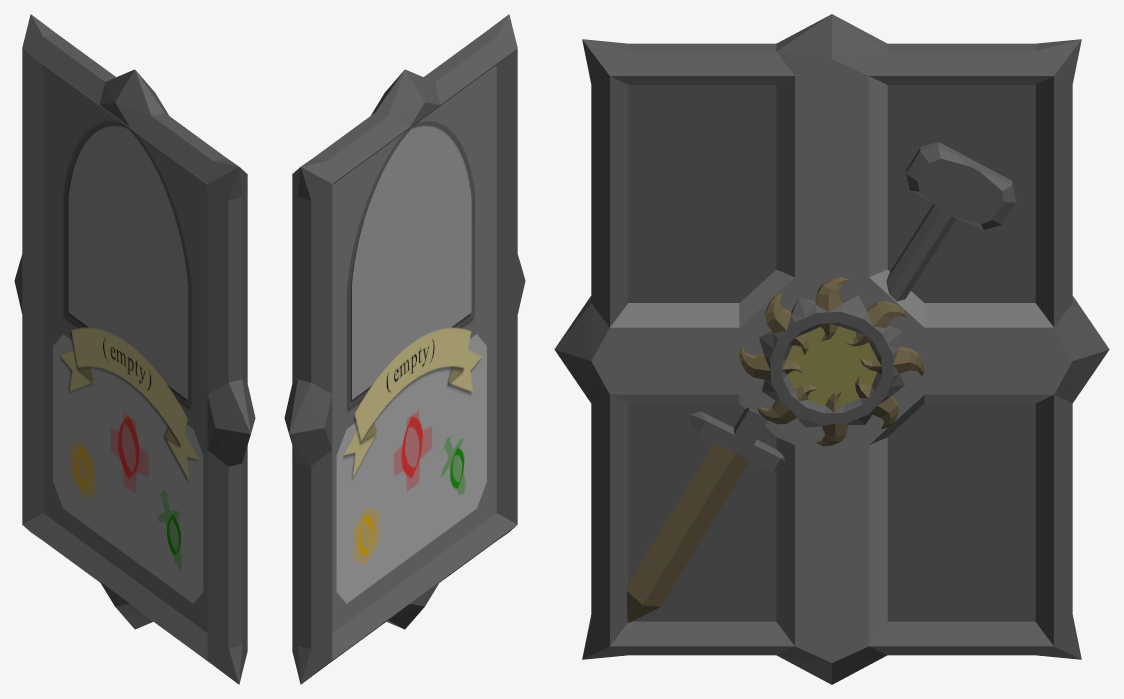
File: card_1.glb
3 views of the same model, side by side, from view 1: azimuth 30°, elevation 25°; view 2: azimuth 150°, elevation 25°; view 3: azimuth 270°, elevation 25° (orthographic). The views are drawn at different scales.
Parts seen in each view (by area): view 1: base; view 2: base; view 3: base, emblem, sword, hammer.
Part boxes in pixels (x1,y1,x2,y2): base: [14, 14, 255, 684]; base: [284, 14, 525, 684]; base: [554, 14, 1109, 684]; emblem: [739, 277, 924, 446]; sword: [626, 407, 784, 622]; hammer: [886, 142, 1016, 301].
Size of the model in its own units: 0.505 by 5.21 by 3.91.
6 materials, 1 textured.
